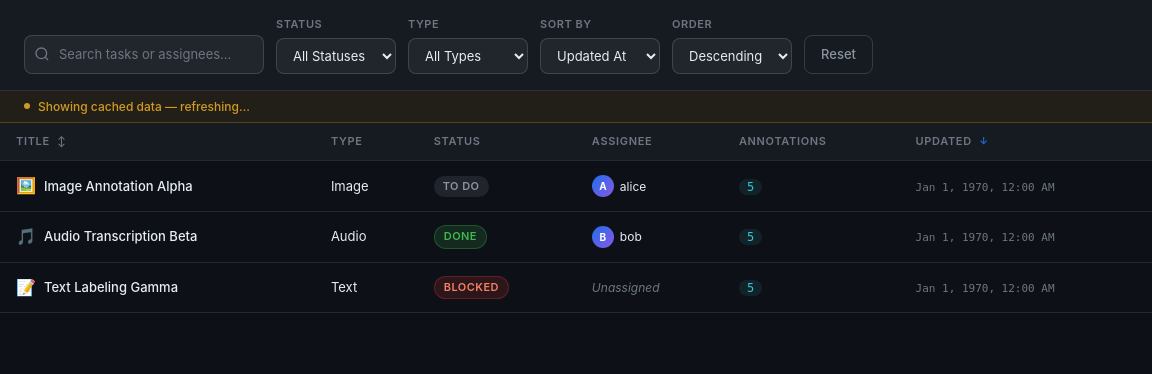
Scenario: TaskTable filtering interactions › shows empty state when no tasks match
In the field labelled "Search tasks or assignees…": [144, 54] box [24,35,264,74], type "xyznonexistent"
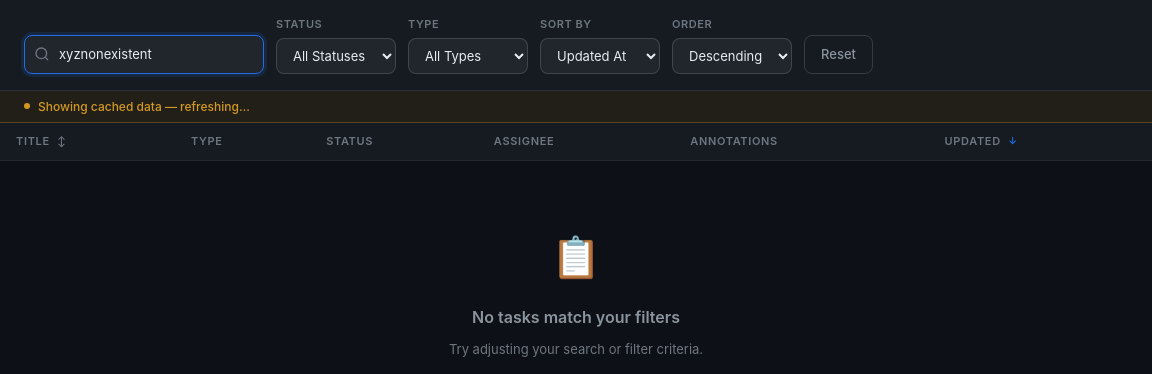
Expected: the heading "No tasks match your filters" is shown, [472,305,680,331]
